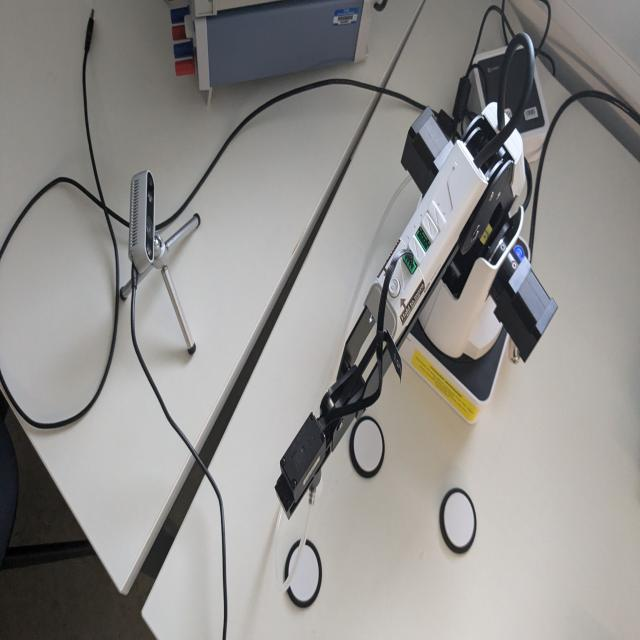Robot-end-effector-HF8z: (272, 408, 330, 524)
